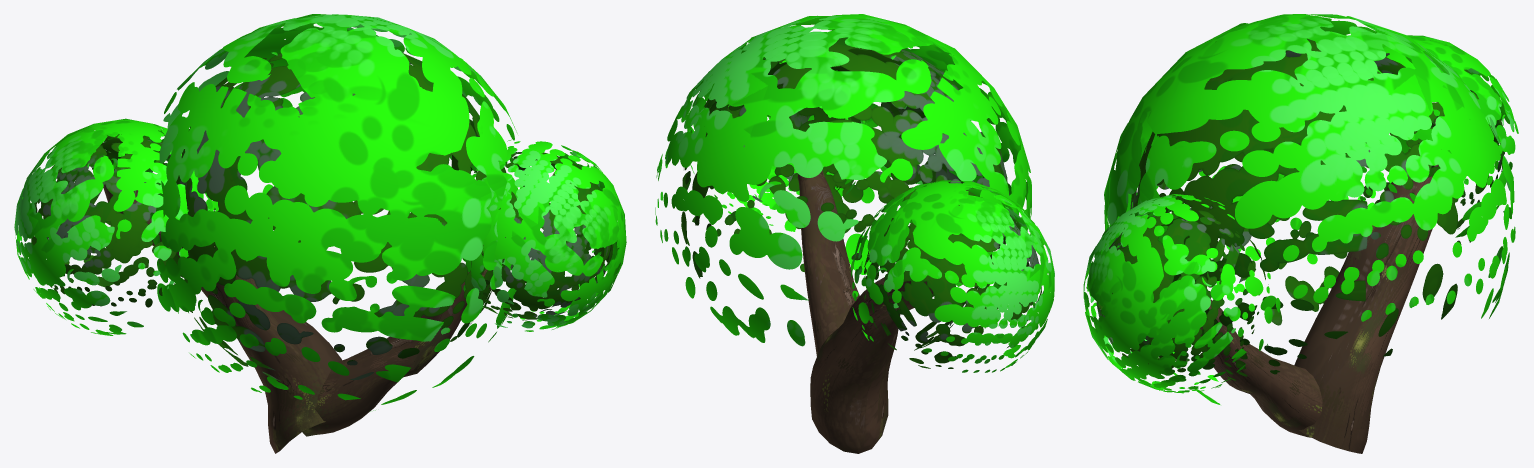
The model's file is bush1.fbx.
The picture shows the model from 3 angles, left to right: view 1: azimuth 30°, elevation 25°; view 2: azimuth 150°, elevation 25°; view 3: azimuth 270°, elevation 25°; orthographic projection. The views are drawn at different scales.
Parts seen in each view (by area): view 1: Icosphere.011, Icosphere.023, Icosphere.025, Icosphere.020, Cylinder.004, Icosphere.024, Cylinder.005, Icosphere.026; view 2: Icosphere.011, Icosphere.023, Icosphere.020, Cylinder.004, Icosphere.024, Cylinder.005, Icosphere.025, Icosphere.026; view 3: Icosphere.011, Icosphere.025, Icosphere.020, Cylinder.004, Cylinder.005, Icosphere.026, Icosphere.023, Icosphere.024.
Part boxes in pixels (x1=…): Icosphere.011: x1=134, y1=14, x2=523, y2=411; Icosphere.023: x1=14, y1=118, x2=218, y2=335; Icosphere.025: x1=462, y1=139, x2=626, y2=331; Icosphere.020: x1=166, y1=53, x2=506, y2=381; Cylinder.004: x1=103, y1=184, x2=341, y2=453; Icosphere.024: x1=31, y1=134, x2=214, y2=307; Cylinder.005: x1=302, y1=269, x2=491, y2=436; Icosphere.026: x1=474, y1=152, x2=613, y2=320; Icosphere.011: x1=655, y1=14, x2=1031, y2=346; Icosphere.023: x1=850, y1=180, x2=1054, y2=372; Icosphere.020: x1=681, y1=38, x2=1009, y2=350; Cylinder.004: x1=810, y1=277, x2=933, y2=453; Icosphere.024: x1=863, y1=197, x2=1041, y2=368; Cylinder.005: x1=797, y1=170, x2=859, y2=355; Icosphere.025: x1=687, y1=56, x2=867, y2=225; Icosphere.026: x1=704, y1=59, x2=851, y2=201; Icosphere.011: x1=1104, y1=14, x2=1515, y2=404; Icosphere.025: x1=1083, y1=194, x2=1280, y2=393; Icosphere.020: x1=1130, y1=40, x2=1471, y2=380; Cylinder.004: x1=1294, y1=115, x2=1444, y2=453; Cylinder.005: x1=1200, y1=299, x2=1322, y2=437; Icosphere.026: x1=1096, y1=210, x2=1268, y2=372; Icosphere.023: x1=1327, y1=35, x2=1518, y2=237; Icosphere.024: x1=1366, y1=53, x2=1504, y2=229.
Bounding box in the file's own units: 754 × 646 × 585.
3 materials, 3 textured.
